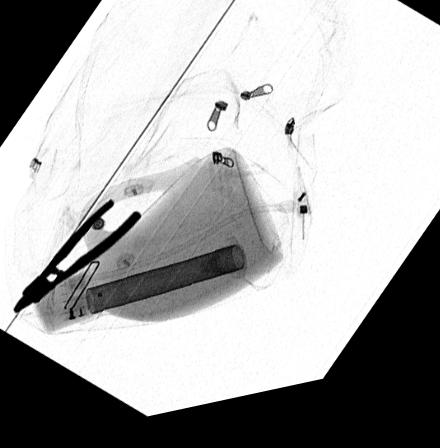Pliers: (11, 200, 143, 314)
